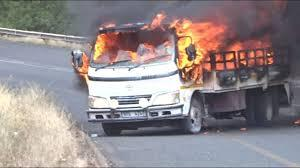fire: (174, 25, 216, 61)
smoke: (69, 3, 159, 19), (196, 7, 269, 20)
